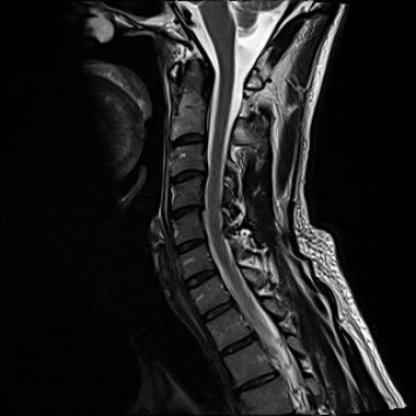Disc Protrusionrotation: (201, 302, 237, 322), (169, 168, 204, 186)
Osteophytesrotation: (169, 168, 204, 186)
